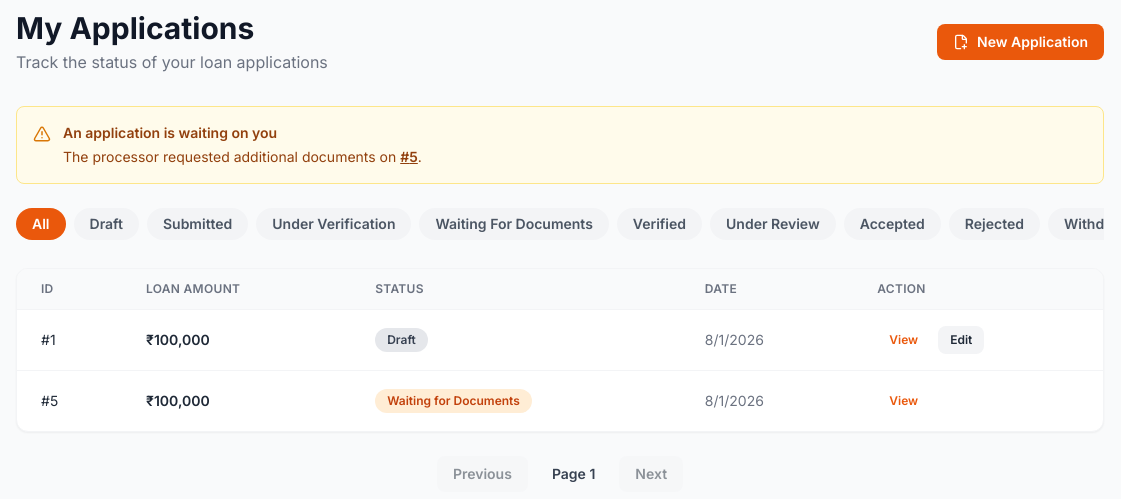
Test: MyApplications — filtering › filters by the derived display status, including "waiting for documents"
Check: the text "#1" is shown, box [17,310,122,370]
Click the button "waiting for documents".
click(514, 224)  # box [420,208,609,240]
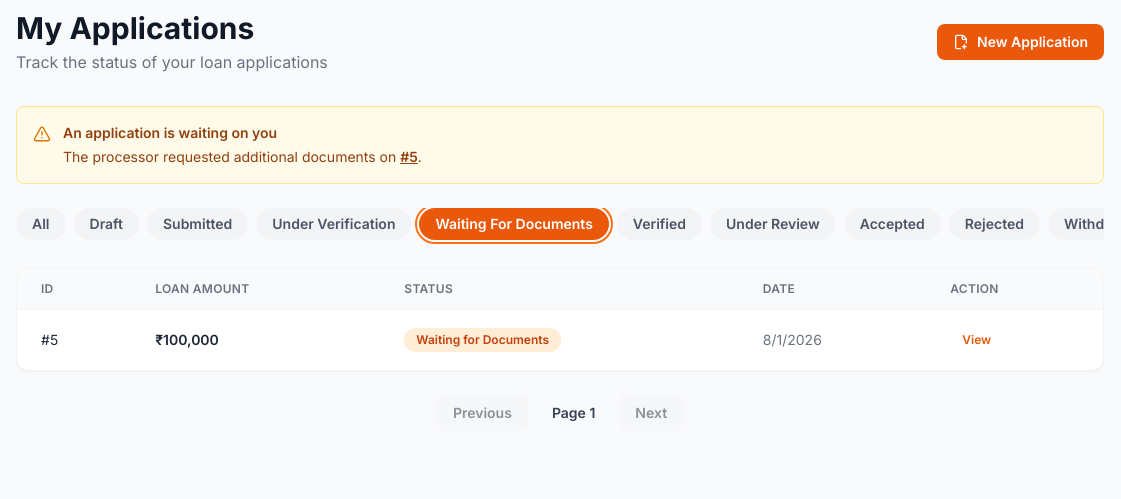
Check: the cell "#5" is shown, box [17,310,131,370]
Check: the cell "#1" is gone
